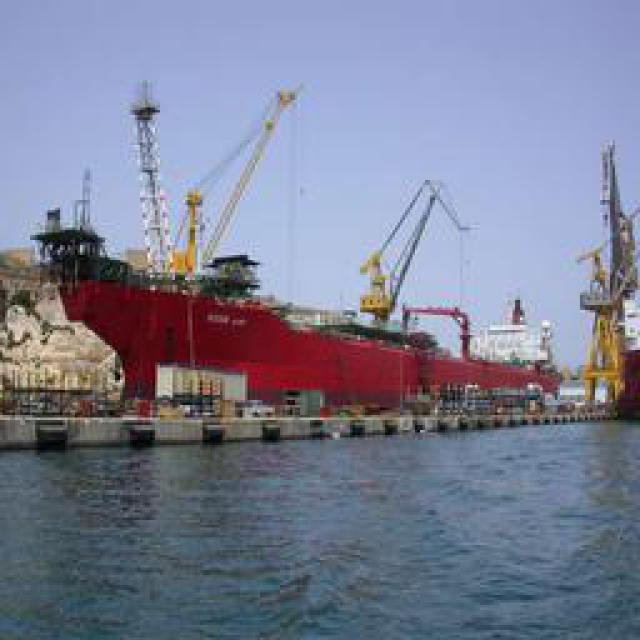Ship: (59, 159, 594, 434)
